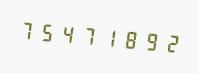eight: (117, 21, 136, 56)
five: (37, 14, 56, 49)
four: (57, 16, 76, 50)
nine: (137, 23, 156, 57)
one: (97, 19, 116, 54)
seven: (17, 12, 36, 47), (77, 18, 96, 52)
two: (157, 25, 176, 59)
